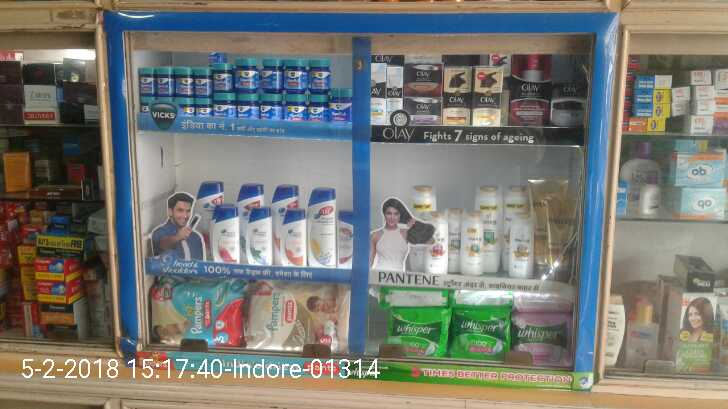beauty: (502, 56, 592, 126), (308, 188, 342, 268), (371, 57, 403, 124), (508, 213, 537, 283), (210, 205, 243, 262), (459, 212, 487, 274), (425, 210, 451, 274), (474, 70, 503, 127), (399, 61, 442, 99), (445, 69, 471, 125), (281, 209, 306, 267), (246, 213, 271, 261)
pharmacy: (135, 56, 351, 121), (245, 278, 352, 358), (149, 280, 243, 349), (378, 301, 448, 359), (451, 304, 510, 359), (511, 309, 571, 362)
